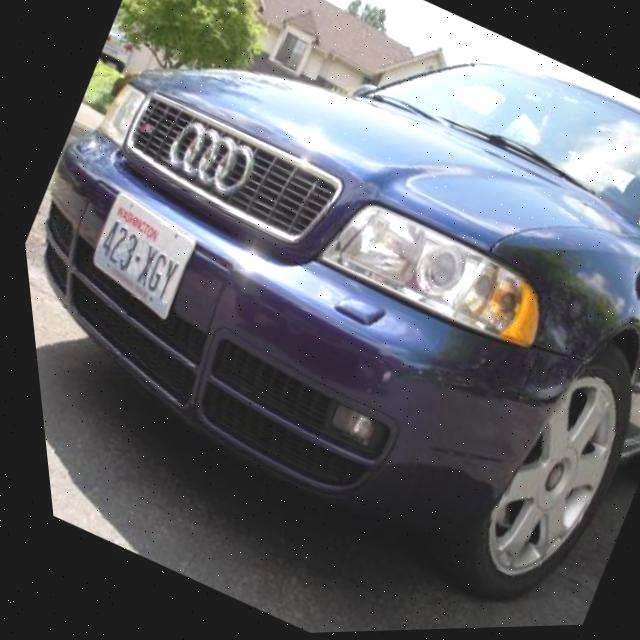license_plate: (68, 188, 205, 323)
